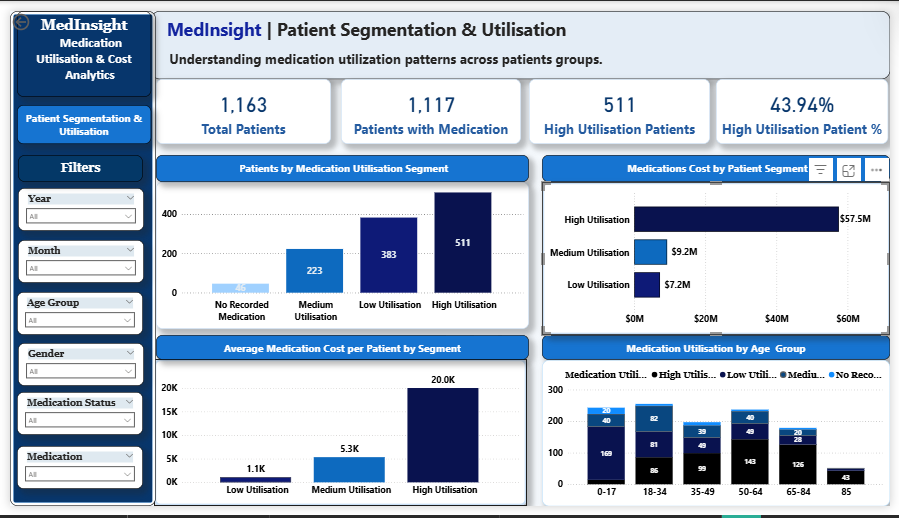

This screenshot's page, from the dashboard's own definition file:
{"tool":"powerbi","page":{"name":"Patient Segmentation & Utilisation","canvas":[1600,900],"ordinal":1},"visuals":[{"type":"textbox","box":[256.4,0,1343.6,123.6],"z":0},{"type":"card","fields":{"Values":["DimPatient.Total Patients"]},"box":[265.5,123.6,318.2,118.2],"z":1000},{"type":"card","fields":{"Values":["FactMedication.Patients with Medication"]},"box":[601.8,123.6,327.3,118.2],"z":2000},{"type":"card","fields":{"Values":["DimPatient.High Utilisation Patients"]},"box":[943.6,123.6,329.1,118.2],"z":3000},{"type":"card","fields":{"Values":["DimPatient.High Utilisation Patient %"]},"box":[1283.6,123.6,312.7,118.2],"z":4000},{"type":"clusteredColumnChart","fields":{"Category":["DimPatient.Medication Utilisation Segment"],"Y":["DimPatient.Total Patients"]},"box":[265.5,310.9,678.2,267.3],"z":5000},{"type":"clusteredColumnChart","fields":{"Y":["FactMedication.Average Cost per Patient Segment"],"Category":["DimPatient.Medication Utilisation Segment"]},"box":[261.8,632.7,678.2,267.3],"z":6000},{"type":"textbox","box":[265.5,261.8,678.2,49.1],"z":7000},{"type":"textbox","box":[967.3,261.8,632.7,49.1],"z":8000},{"type":"textbox","box":[265.5,589.1,678.2,45.5],"z":9000},{"type":"textbox","box":[967.3,589.1,632.7,45.5],"z":10000},{"type":"shape","box":[0,0,265.5,900],"z":11000},{"type":"slicer","fields":{"Values":["DimDate.Year"]},"box":[14.5,321.8,229.1,78.2],"z":12000},{"type":"slicer","fields":{"Values":["DimDate.Month"]},"box":[14.5,416.4,229.1,78.2],"z":13000},{"type":"slicer","fields":{"Values":["DimPatient.Age Group"]},"box":[12.7,510.9,229.1,78.2],"z":14000},{"type":"slicer","fields":{"Values":["DimPatient.GENDER"]},"box":[14.5,603.6,229.1,78.2],"z":15000},{"type":"slicer","fields":{"Values":["FactMedication.Medication_status"]},"box":[12.7,692.7,229.1,78.2],"z":16000},{"type":"slicer","fields":{"Values":["DimMedication.DESCRIPTION"]},"box":[12.7,790.9,229.1,78.2],"z":17000},{"type":"textbox","box":[14.5,261.8,227.3,49.1],"z":18000},{"type":"textbox","box":[12.7,0,243.6,156.4],"z":19000},{"type":"textbox","box":[12.7,170.9,243.6,70.9],"z":20000},{"type":"actionButton","box":[0,0,100,40],"z":21000},{"type":"columnChart","fields":{"Category":["DimPatient.Age Group"],"Y":["DimPatient.Total Patients"],"Series":["DimPatient.Medication Utilisation Segment"]},"box":[967,634,633,266],"z":22000},{"type":"clusteredBarChart","fields":{"Category":["DimPatient.Medication Utilisation Segment"],"Y":["FactMedication.Total Medication Cost"]},"box":[967.3,310.9,632.7,278.2],"z":23000}]}

Visuals, with their boxes on the page's 1600x900 design canvas (x1, y1, x2, y2). These are canvas units, not pixel positions in the 899x518 screenshot, which may show the page scaled, cropped or inside an application window:
textbox: [left=256, top=0, right=1600, bottom=124]
card - DimPatient.Total Patients: [left=266, top=124, right=584, bottom=242]
card - FactMedication.Patients with Medication: [left=602, top=124, right=929, bottom=242]
card - DimPatient.High Utilisation Patients: [left=944, top=124, right=1273, bottom=242]
card - DimPatient.High Utilisation Patient %: [left=1284, top=124, right=1596, bottom=242]
clusteredColumnChart - DimPatient.Medication Utilisation Segment x DimPatient.Total Patients: [left=266, top=311, right=944, bottom=578]
clusteredColumnChart - FactMedication.Average Cost per Patient Segment x DimPatient.Medication Utilisation Segment: [left=262, top=633, right=940, bottom=900]
textbox: [left=266, top=262, right=944, bottom=311]
textbox: [left=967, top=262, right=1600, bottom=311]
textbox: [left=266, top=589, right=944, bottom=635]
textbox: [left=967, top=589, right=1600, bottom=635]
shape: [left=0, top=0, right=266, bottom=900]
slicer - DimDate.Year: [left=14, top=322, right=244, bottom=400]
slicer - DimDate.Month: [left=14, top=416, right=244, bottom=495]
slicer - DimPatient.Age Group: [left=13, top=511, right=242, bottom=589]
slicer - DimPatient.GENDER: [left=14, top=604, right=244, bottom=682]
slicer - FactMedication.Medication_status: [left=13, top=693, right=242, bottom=771]
slicer - DimMedication.DESCRIPTION: [left=13, top=791, right=242, bottom=869]
textbox: [left=14, top=262, right=242, bottom=311]
textbox: [left=13, top=0, right=256, bottom=156]
textbox: [left=13, top=171, right=256, bottom=242]
actionButton: [left=0, top=0, right=100, bottom=40]
columnChart - DimPatient.Age Group x DimPatient.Total Patients: [left=967, top=634, right=1600, bottom=900]
clusteredBarChart - DimPatient.Medication Utilisation Segment x FactMedication.Total Medication Cost: [left=967, top=311, right=1600, bottom=589]
